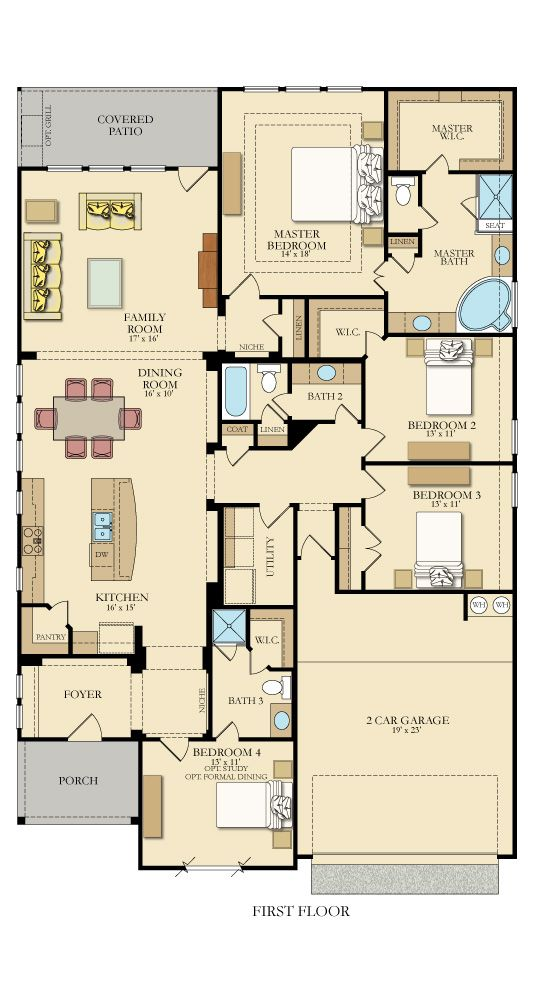restroom: (204, 357, 366, 508), (383, 170, 518, 337), (207, 605, 297, 741)
room: (17, 351, 216, 658), (17, 167, 222, 360), (217, 87, 389, 299), (138, 737, 298, 871), (361, 332, 517, 466), (360, 460, 516, 594), (384, 87, 518, 176)
window: (512, 281, 518, 329), (46, 165, 83, 172), (87, 165, 124, 172), (130, 165, 167, 172), (243, 85, 280, 92), (285, 86, 322, 93), (326, 86, 363, 93), (15, 364, 23, 396), (15, 402, 23, 434), (15, 440, 23, 472), (511, 472, 518, 508), (511, 419, 518, 455), (16, 490, 23, 516), (16, 566, 23, 592), (16, 672, 23, 698), (16, 703, 23, 729)
